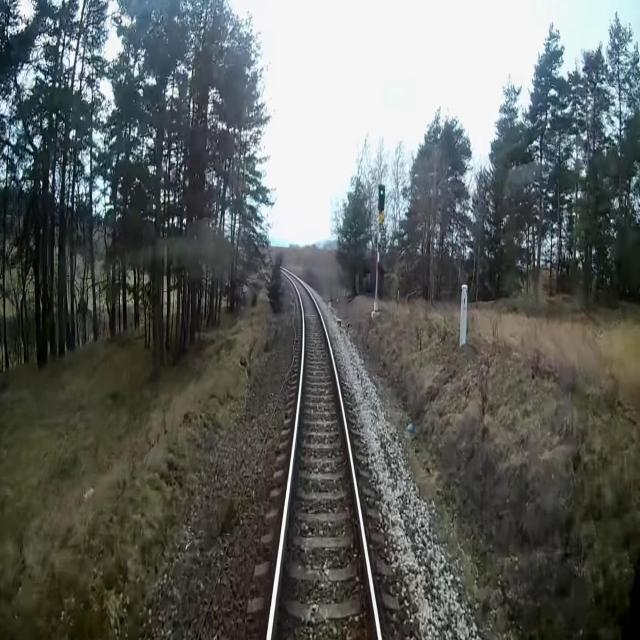rail-track: (271, 268, 377, 639)
